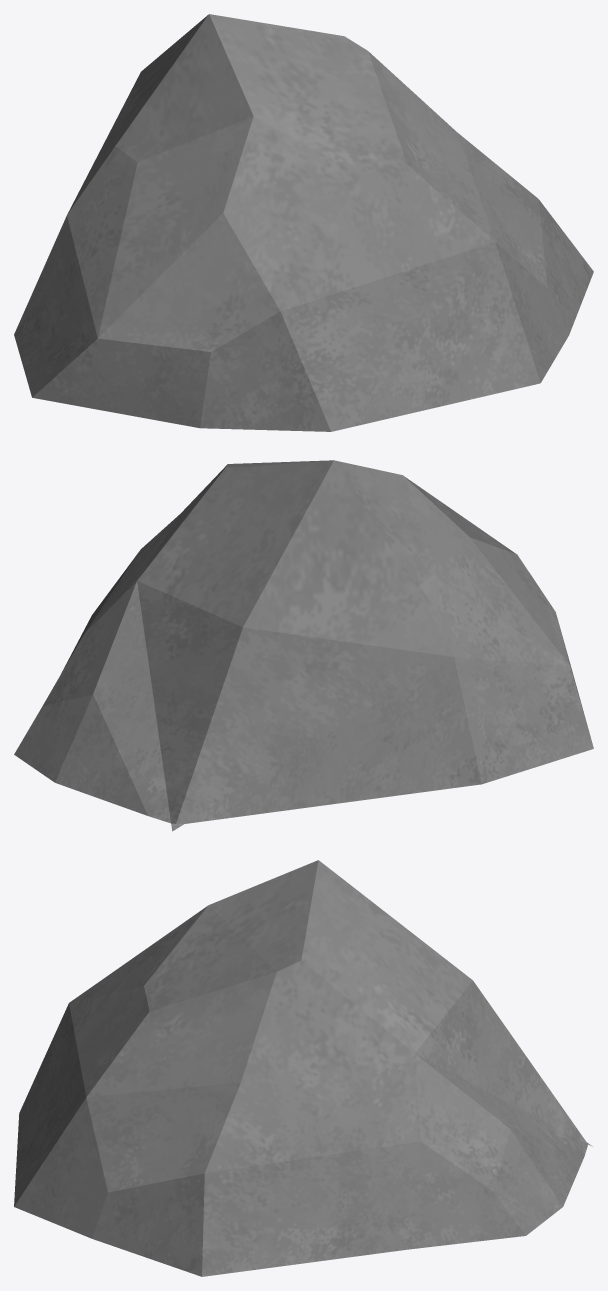
File: Mountain_3.glb
3 renders of one model, top to bottom at view 1: azimuth 30°, elevation 25°; view 2: azimuth 150°, elevation 25°; view 3: azimuth 270°, elevation 25°, orthographic. The views are drawn at different scales.
Visible parts, largest first — view 1: Cube.079_Cube.228; view 2: Cube.079_Cube.228; view 3: Cube.079_Cube.228.
Part boxes in pixels (x1,y1,x2,y2): Cube.079_Cube.228: (14,14,593,431); Cube.079_Cube.228: (14,460,593,831); Cube.079_Cube.228: (14,860,592,1276).
Bounding box in the file's own units: 75.29 × 38.73 × 73.83.
Materials: 1 (1 with a texture image).
